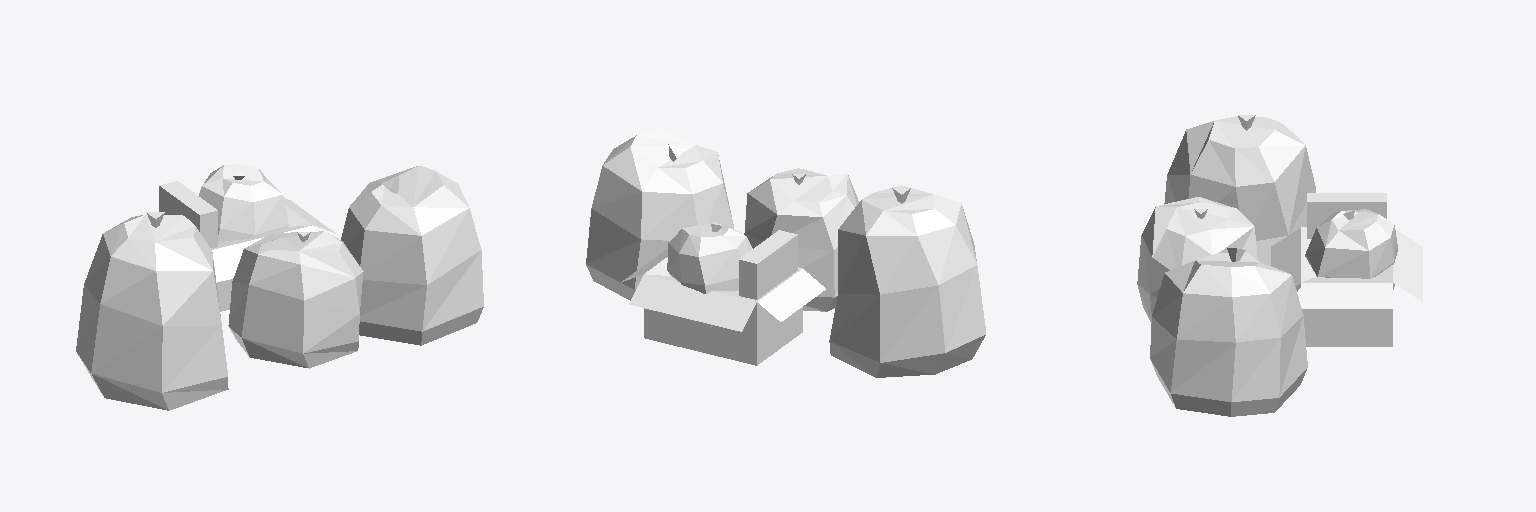
File: bags.obj
The picture shows the model from 3 angles: view 1: azimuth 30°, elevation 25°; view 2: azimuth 150°, elevation 25°; view 3: azimuth 270°, elevation 25°; orthographic projection.
Visible parts, largest first — view 1: Trash_004; view 2: Trash_004; view 3: Trash_004.
Boxes of the visible parts, <box> form: Trash_004: <box>76,164,483,410</box>; Trash_004: <box>586,127,985,377</box>; Trash_004: <box>1137,115,1422,416</box>.
Bounding box in the file's own units: 226 × 92.45 × 146.